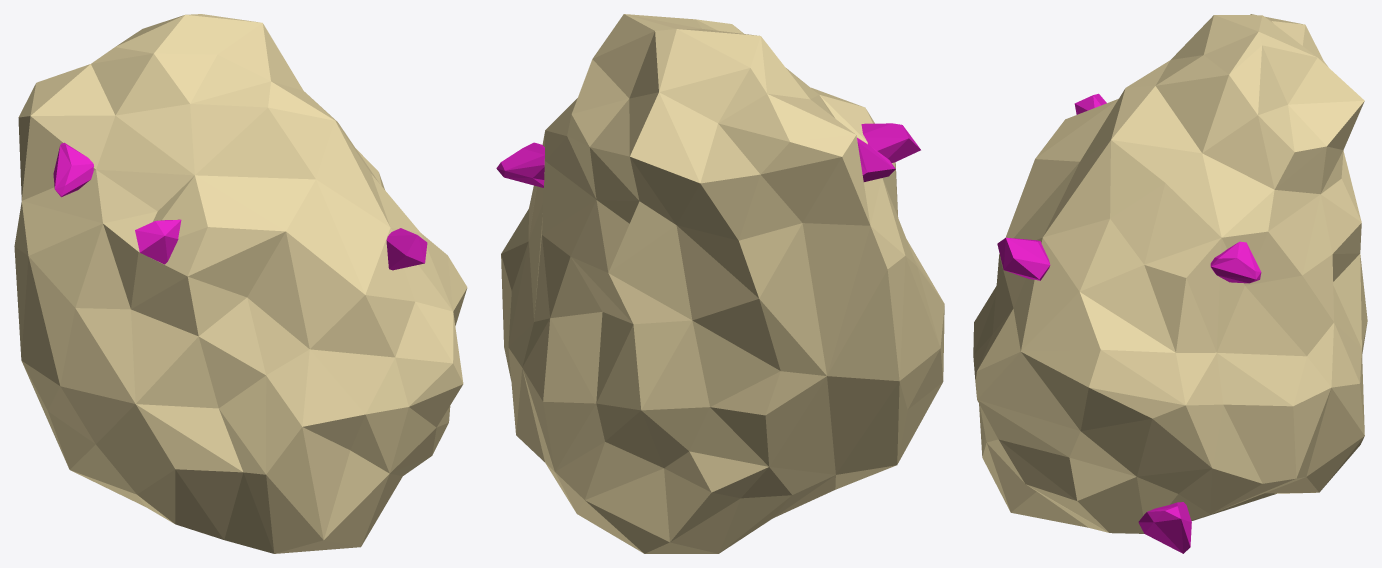
The model's file is CrystalOre (47).fbx.
3 renders of one model, left to right at view 1: azimuth 30°, elevation 25°; view 2: azimuth 150°, elevation 25°; view 3: azimuth 270°, elevation 25°, orthographic. The views are drawn at different scales.
Visible parts, largest first — view 1: Asteroid267; view 2: Asteroid267; view 3: Asteroid267.
Part boxes in pixels (x1,y1,x2,y2): Asteroid267: (14, 14, 467, 553); Asteroid267: (496, 14, 944, 553); Asteroid267: (973, 14, 1367, 553).
Bounding box in the file's own units: 372 × 447 × 332.
